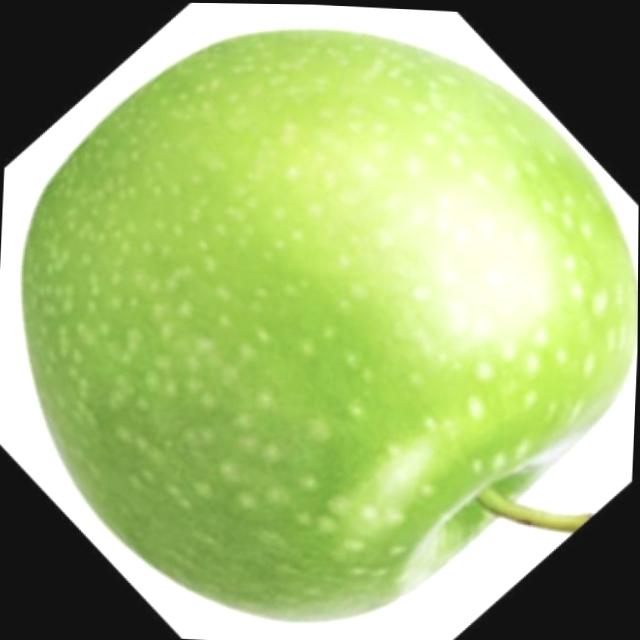Apple: (5, 10, 640, 639)
